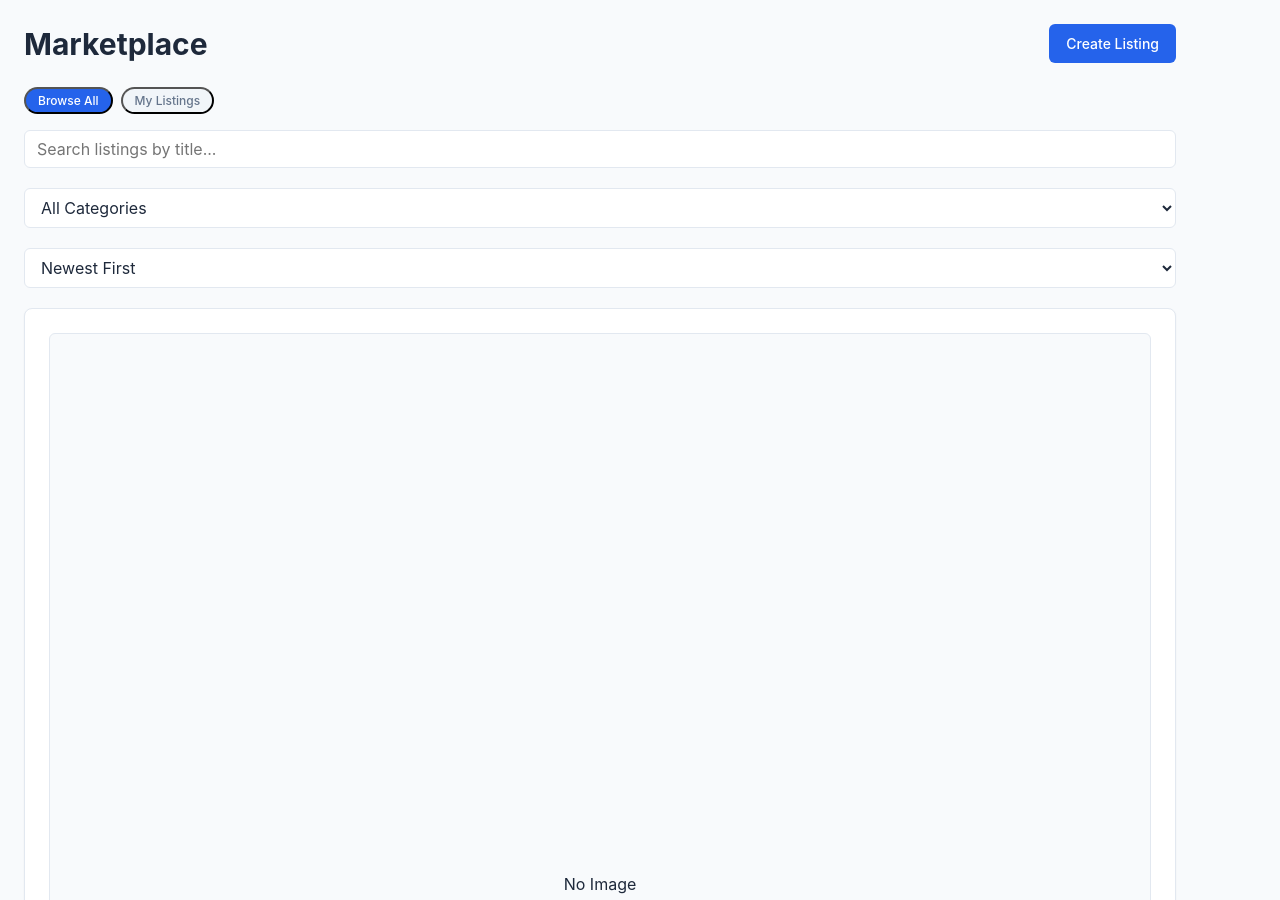
Scenario: MarketplaceView › shows empty state when search matches nothing
This screenshot has width=1280, height=900.
Type "xyzabc" into the field with class "form-input" at {"x": 600, "y": 149}, box [24, 130, 1176, 168]
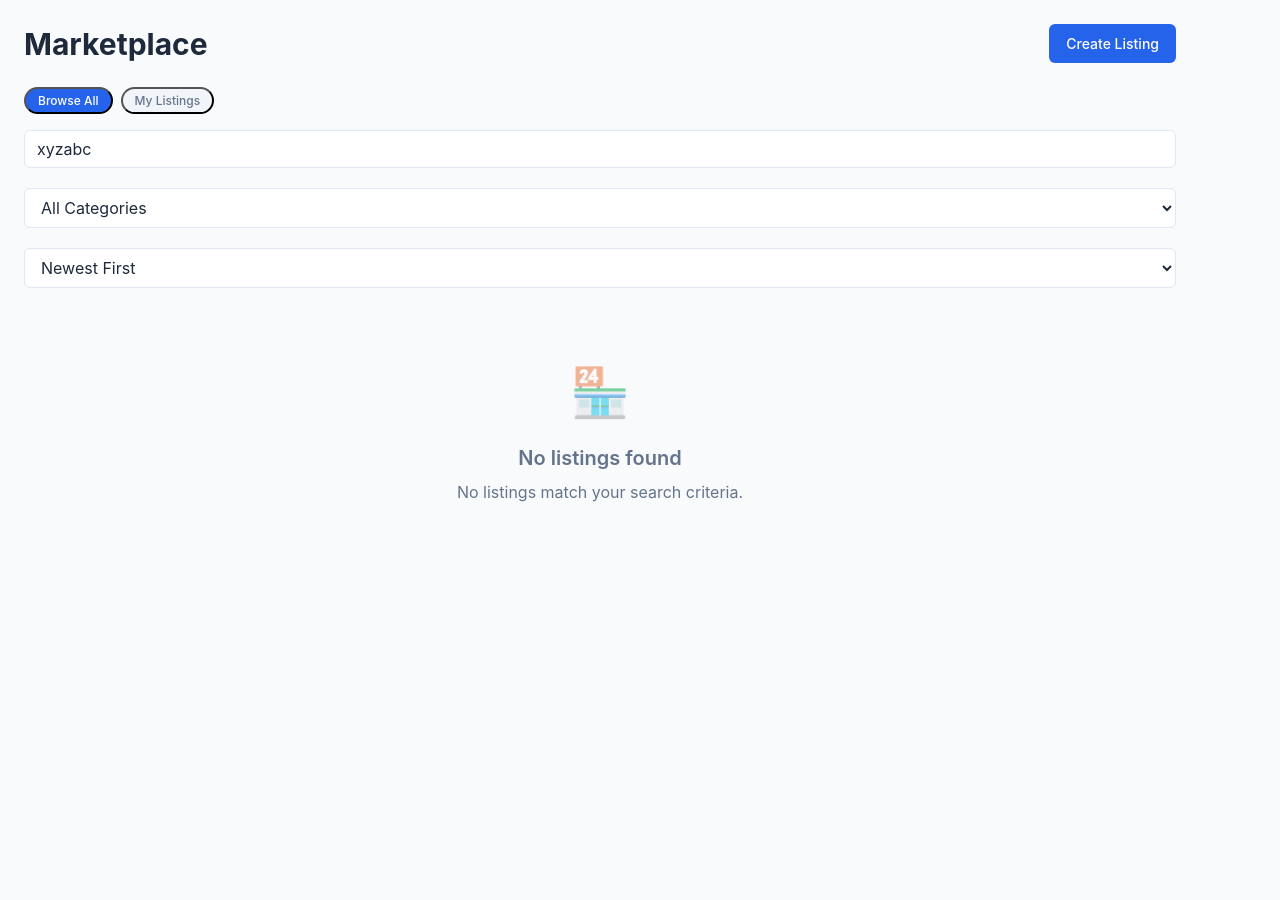
Expected: the element with class "empty-state" is shown, [457, 362, 743, 502]
